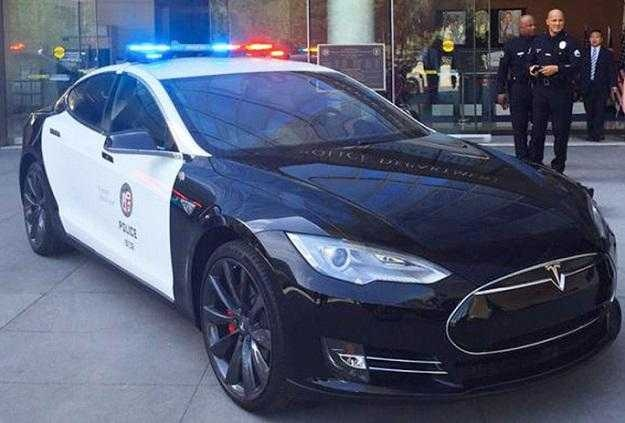Police Car: (11, 23, 615, 412)
